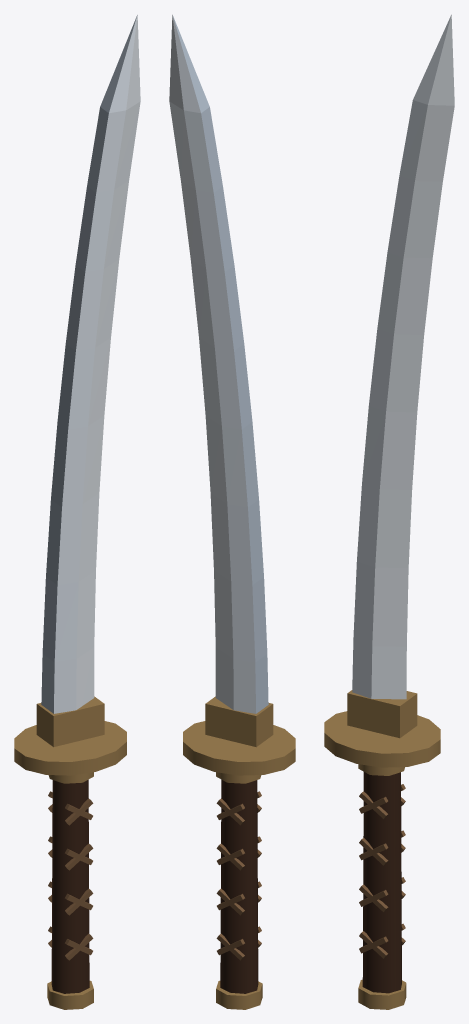
File: sword_f1_bc777187.glb
3 views of the same model, side by side, from view 1: azimuth 30°, elevation 25°; view 2: azimuth 150°, elevation 25°; view 3: azimuth 330°, elevation 25° (orthographic). The views are drawn at different scales.
Visible parts, largest first — view 1: m0_ow80_, m2_ow80_, m1_ow80_, m3_ow80_; view 2: m0_ow80_, m2_ow80_, m1_ow80_, m3_ow80_; view 3: m0_ow80_, m2_ow80_, m1_ow80_, m3_ow80_.
Part boxes in pixels (x1=…): m0_ow80_: x1=41, y1=14, x2=140, y2=713; m2_ow80_: x1=14, y1=696, x2=126, y2=1009; m1_ow80_: x1=51, y1=779, x2=89, y2=993; m3_ow80_: x1=48, y1=791, x2=93, y2=960; m0_ow80_: x1=169, y1=14, x2=268, y2=713; m2_ow80_: x1=183, y1=696, x2=295, y2=1009; m1_ow80_: x1=220, y1=779, x2=258, y2=993; m3_ow80_: x1=216, y1=791, x2=261, y2=960; m0_ow80_: x1=352, y1=14, x2=454, y2=699; m2_ow80_: x1=324, y1=690, x2=440, y2=1009; m1_ow80_: x1=362, y1=772, x2=401, y2=993; m3_ow80_: x1=359, y1=784, x2=405, y2=958.
Size of the model in its own units: 0.2439 by 1.87 by 0.1764.
